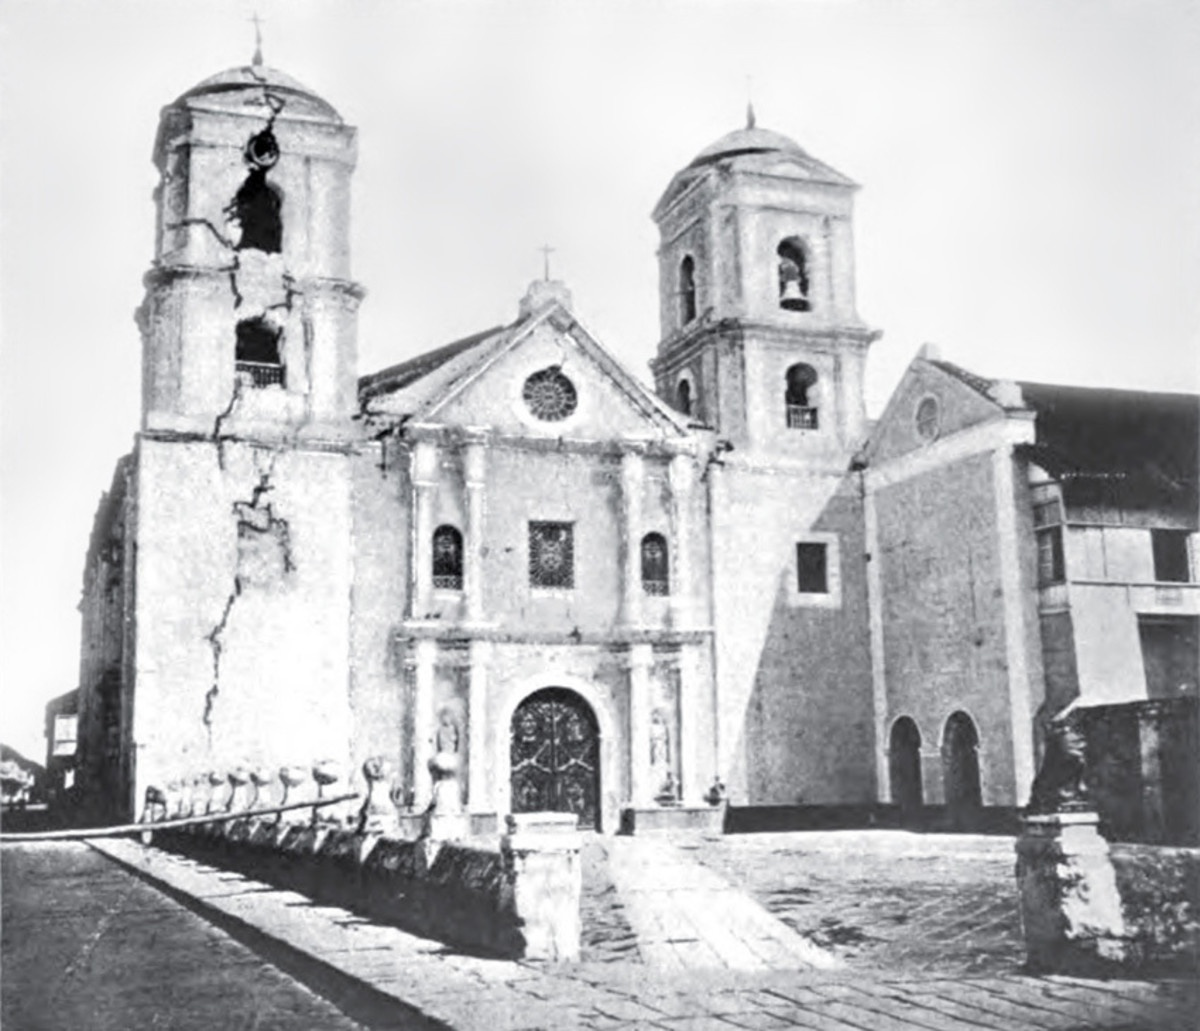crack: (199, 376, 255, 470), (212, 562, 262, 638), (199, 647, 242, 732), (165, 210, 239, 258), (247, 78, 290, 152)
